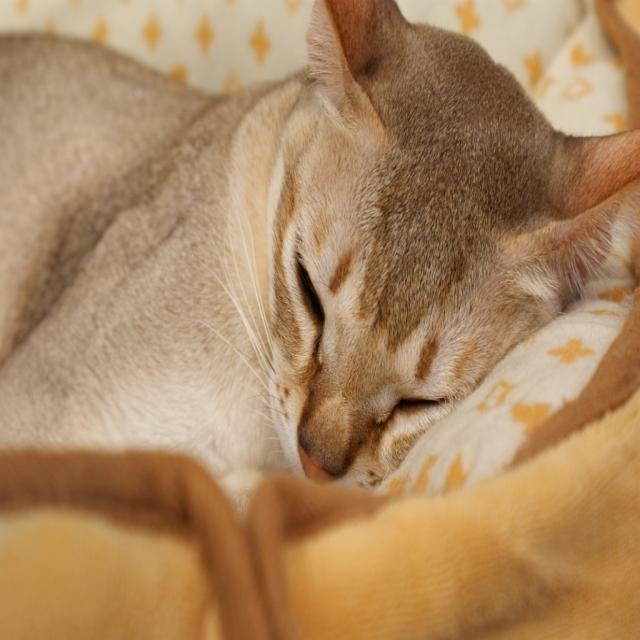Cat: (0, 0, 639, 491)
